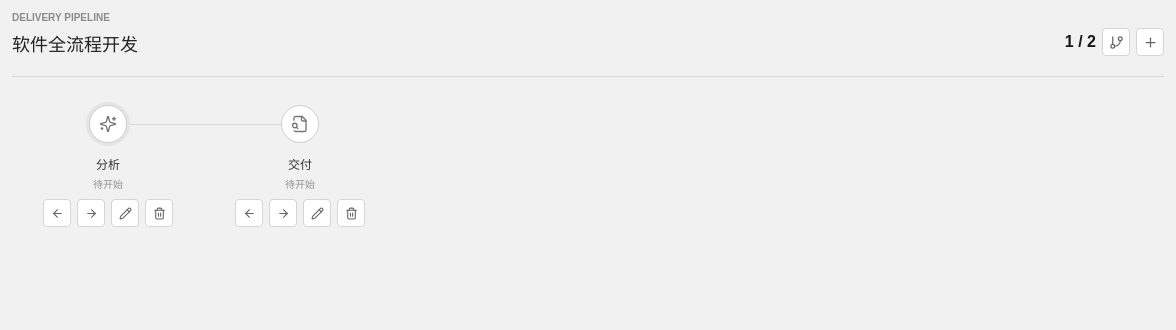
Test: RequirementWorkflowNodeEditor transient command failures › publishes a safe Toast when updating a node fails
This screenshot has width=1176, height=330.
Click the button named "编辑分析节点".
click(125, 213)  # box [111,199,139,227]
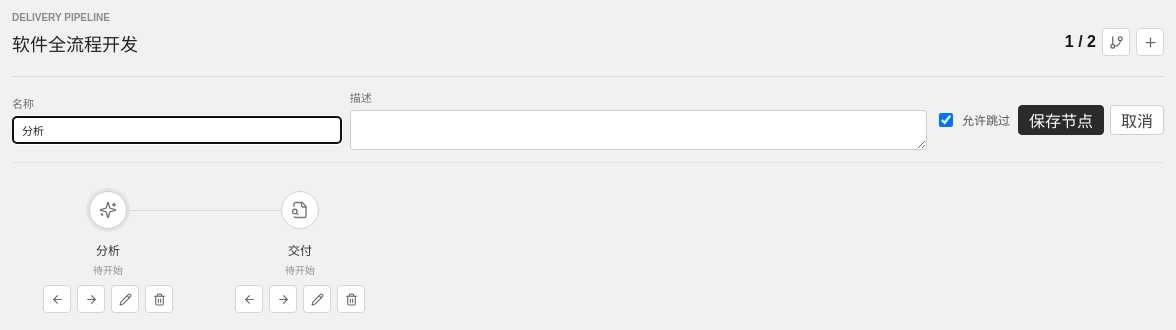
Replace the text in the field named "编辑节点名称" with "分析更新" at (177, 130), box [12,116,342,144]
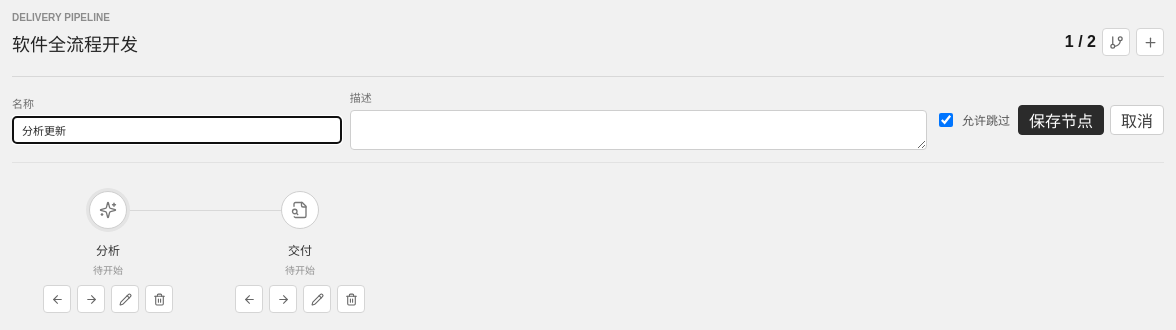
Click the button "保存节点".
click(1061, 120)  # box [1018,104,1104,134]
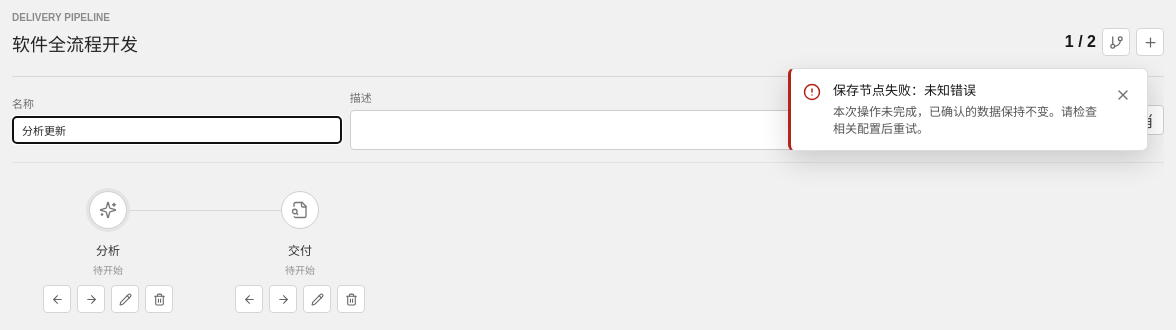
expect the message shows "保存节点失败：未知错误": met, box [833,83,976,98]
